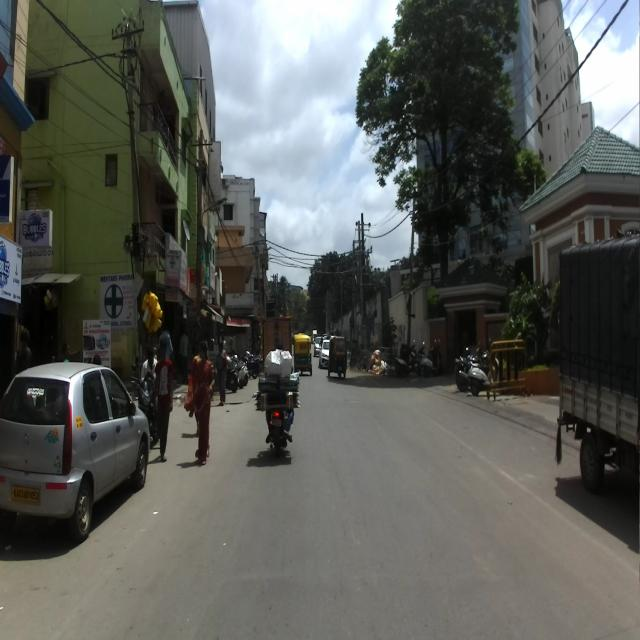autorickshaw: (328, 335, 348, 379)
car: (0, 361, 150, 543)
motorcycle: (130, 363, 160, 442)
